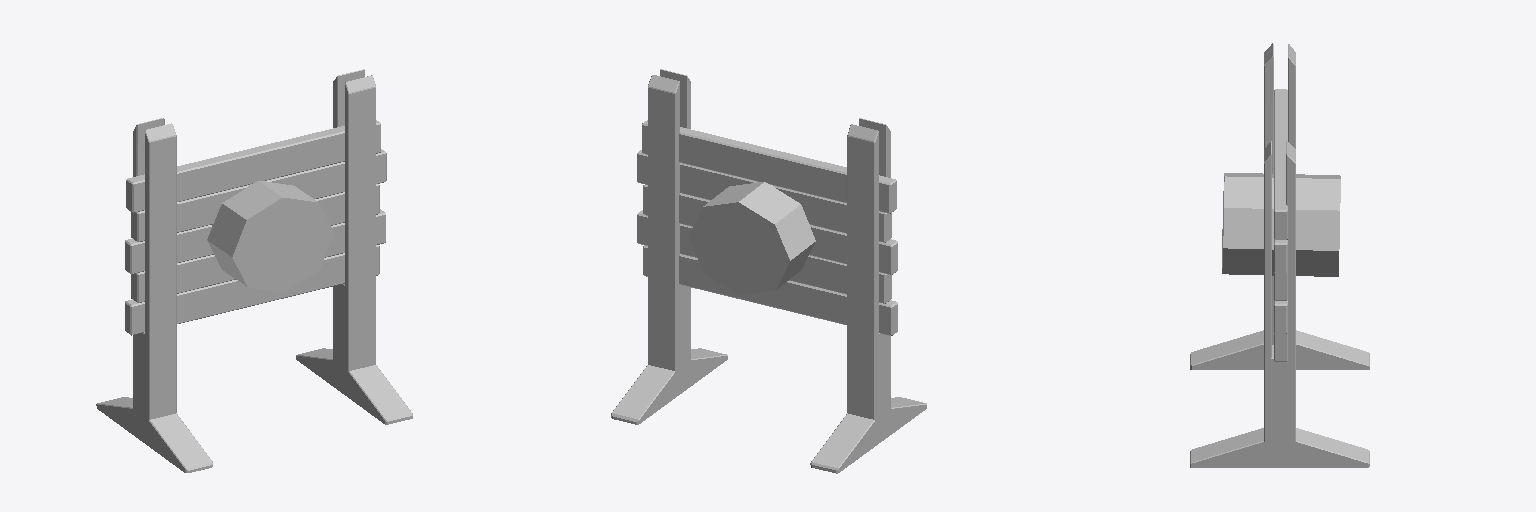
3 renders of one model, left to right at view 1: azimuth 30°, elevation 25°; view 2: azimuth 150°, elevation 25°; view 3: azimuth 270°, elevation 25°, orthographic.
Parts seen in each view (by area): view 1: low_for_paint_obj:polySurface1, Cylinder; view 2: low_for_paint_obj:polySurface1, Cylinder; view 3: low_for_paint_obj:polySurface1, Cylinder.
Boxes of the visible parts, x1,y1,x2,y2 form: low_for_paint_obj:polySurface1: [96, 69, 412, 472]; Cylinder: [207, 181, 333, 291]; low_for_paint_obj:polySurface1: [611, 69, 926, 473]; Cylinder: [688, 182, 815, 294]; low_for_paint_obj:polySurface1: [1190, 43, 1369, 467]; Cylinder: [1222, 173, 1340, 276].
Bounding box in the file's own units: 9.4 × 10.99 × 5.75.